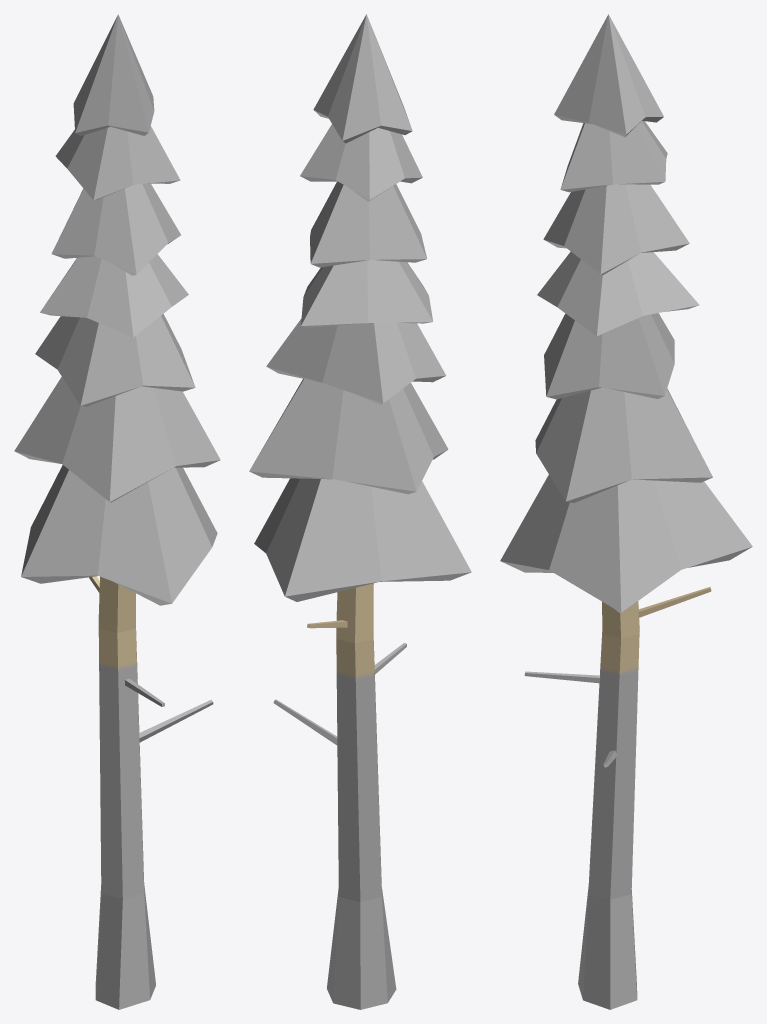
The model's file is Tree_27.fbx.
3 renders of one model, left to right at view 1: azimuth 30°, elevation 25°; view 2: azimuth 150°, elevation 25°; view 3: azimuth 270°, elevation 25°, orthographic.
Visible parts, largest first — view 1: Tree_27; view 2: Tree_27; view 3: Tree_27.
Part boxes in pixels (bbox=[...]): Tree_27: bbox=[14, 14, 220, 1009]; Tree_27: bbox=[249, 14, 471, 1009]; Tree_27: bbox=[500, 14, 752, 1009].
Bounding box in the file's own units: 3.08 × 13.93 × 3.27.
